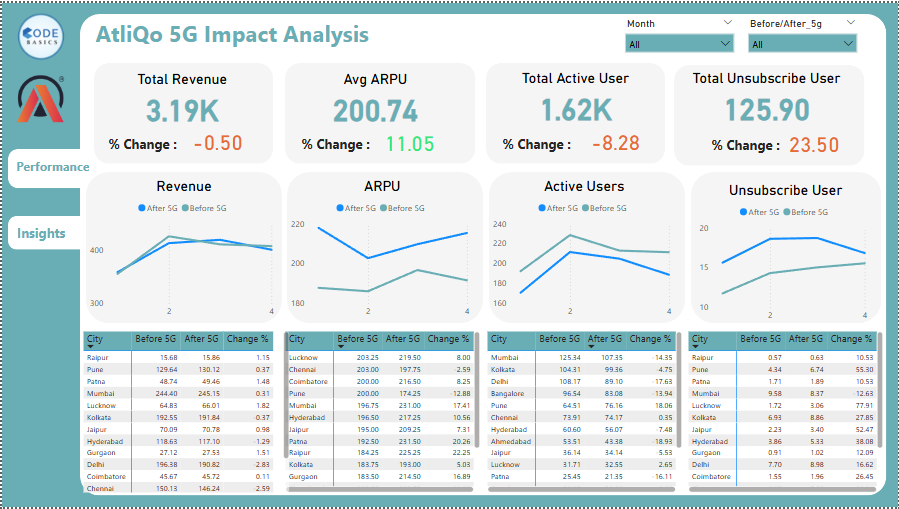

The page's visual inventory and layout, read from the dashboard file:
{"tool":"powerbi","page":{"name":"Performance ","canvas":[1280,720],"ordinal":0},"visuals":[{"type":"shape","box":[0,0,1280,720],"z":0},{"type":"shape","box":[112,16,1152,688],"z":1000},{"type":"image","box":[16,0,80,96],"z":2000},{"type":"shape","box":[8,200,136,64],"z":3000},{"type":"image","box":[16,96,80,80],"z":4000},{"type":"shape","box":[691.7,86.2,256,144],"z":6000},{"type":"textbox","box":[128,16,416,64],"z":7000},{"type":"card","title":"Total Active User","fields":{"Values":["metrics.Total Active User"]},"box":[707.4,95.2,224,80],"z":8000},{"type":"shape","box":[960,88,272,144],"z":9000},{"type":"card","title":"Total Unsubscribe User","fields":{"Values":["metrics.Total Unsubscribe User"]},"box":[979.4,95.2,224,80],"z":10000},{"type":"shape","box":[403.8,86.2,272,144],"z":11000},{"type":"shape","box":[9,298,128,64],"z":11500},{"type":"card","title":"Avg ARPU","fields":{"Values":["metrics.ARPU"]},"box":[437.1,97.7,192,80],"z":12000},{"type":"shape","box":[131.8,86.2,256,144],"z":12500},{"type":"card","title":"Total Revenue ","fields":{"Values":["metrics.Total Revenue"]},"box":[161.5,97,192,80],"z":14000},{"type":"textbox","box":[147.8,182.2,128,48],"z":15000},{"type":"textbox","box":[422.4,182.7,128,48],"z":16000},{"type":"textbox","box":[709.4,183.2,128,48],"z":17000},{"type":"textbox","box":[1007.9,184.7,128,48],"z":18000},{"type":"card","fields":{"Values":["metrics.Revenue Change %"]},"box":[259.8,166.2,96,64],"z":19000},{"type":"card","fields":{"Values":["metrics.ARPU Change %"]},"box":[518.4,166.7,128,64],"z":20000},{"type":"card","fields":{"Values":["metrics.Active User Change %"]},"box":[803.8,166.2,144,64],"z":21000},{"type":"card","fields":{"Values":["metrics.Unsubscribe User Change %"]},"box":[1104,168,112,64],"z":23000},{"type":"shape","box":[119.8,241.8,280,216],"z":24000},{"type":"lineChart","title":"Revenue","fields":{"Y":["metrics.Revenue After 5G","metrics.Revenue Before 5G"],"Category":["dim_date.time_period"]},"box":[119.8,249.8,280,208],"z":25000},{"type":"shape","box":[407.8,241.8,280,216],"z":26000},{"type":"shape","box":[695.8,241.8,280,216],"z":27000},{"type":"lineChart","title":"ARPU","fields":{"Category":["dim_date.time_period"],"Y":["metrics.ARPU After 5G","metrics.ARPU Before 5G"]},"box":[407.8,249.8,272,208],"z":28000},{"type":"shape","box":[983.8,241.8,272,216],"z":29000},{"type":"lineChart","title":"Unsubscribe User","fields":{"Category":["dim_date.time_period"],"Y":["metrics.Unsubscribe User After 5G","metrics.Unsubscribe User Before 5G"]},"box":[992,256,256,208],"z":30000},{"type":"lineChart","title":"Active Users","fields":{"Category":["dim_date.time_period"],"Y":["metrics.Active User After 5G","metrics.Active User Before 5G"]},"box":[695.8,249.8,272,208],"z":31000},{"type":"pivotTable","fields":{"Rows":["dim_cities.city_name"],"Values":["metrics.ARPU Before 5G","metrics.ARPU After 5G","metrics.ARPU Change %"]},"box":[400,464,288,240],"z":32000},{"type":"pivotTable","fields":{"Values":["metrics.Revenue Before 5G","metrics.Revenue After 5G","metrics.Revenue Change %"],"Rows":["dim_cities.city_name"]},"box":[112,464,304,240],"z":33000},{"type":"pivotTable","fields":{"Rows":["dim_cities.city_name"],"Values":["metrics.Unsubscribe User Before 5G","metrics.Unsubscribe User After 5G","metrics.Unsubscribe User Change %"]},"box":[976,464,288,240],"z":37000},{"type":"pivotTable","fields":{"Rows":["dim_cities.city_name"],"Values":["metrics.Active User Before 5G","metrics.Active User After 5G","metrics.Active User Change %"]},"box":[688,464,288,240],"z":39500},{"type":"slicer","fields":{"Values":["dim_date.before/after_5g"]},"box":[1056,16,176,64],"z":39501},{"type":"slicer","fields":{"Values":["dim_date.date.Variation.Date Hierarchy.Month"]},"box":[880,16,176,64],"z":39502},{"type":"actionButton","box":[0,208,128,48],"z":39506},{"type":"actionButton","box":[0,304,128,48],"z":39507}]}

Visuals, with their boxes in screenshot pixels (x1, y1, x2, y2), scaled from the page's 1280x720 canvas onto the 899x509 screenshot:
shape: 0:0:898:508
shape: 79:11:888:498
image: 11:0:67:68
shape: 6:141:101:187
image: 11:68:67:124
shape: 486:61:666:163
textbox: 90:11:382:57
"Total Active User" card: 497:67:654:124
shape: 674:62:865:164
"Total Unsubscribe User" card: 688:67:845:124
shape: 284:61:475:163
shape: 6:211:96:256
"Avg ARPU" card: 307:69:442:126
shape: 93:61:272:163
"Total Revenue " card: 113:69:248:125
textbox: 104:129:194:163
textbox: 297:129:387:163
textbox: 498:130:588:163
textbox: 708:131:798:165
card - metrics.Revenue Change %: 182:117:250:163
card - metrics.ARPU Change %: 364:118:454:163
card - metrics.Active User Change %: 565:117:666:163
card - metrics.Unsubscribe User Change %: 775:119:854:164
shape: 84:171:281:324
"Revenue" lineChart: 84:177:281:324
shape: 286:171:483:324
shape: 489:171:685:324
"ARPU" lineChart: 286:177:477:324
shape: 691:171:882:324
"Unsubscribe User" lineChart: 697:181:877:328
"Active Users" lineChart: 489:177:680:324
pivotTable - dim_cities.city_name x metrics.ARPU Before 5G: 281:328:483:498
pivotTable - metrics.Revenue Before 5G x metrics.Revenue After 5G: 79:328:292:498
pivotTable - dim_cities.city_name x metrics.Unsubscribe User Before 5G: 685:328:888:498
pivotTable - dim_cities.city_name x metrics.Active User Before 5G: 483:328:685:498
slicer - dim_date.before/after_5g: 742:11:865:57
slicer - dim_date.date.Variation.Date Hierarchy.Month: 618:11:742:57
actionButton: 0:147:90:181
actionButton: 0:215:90:249
